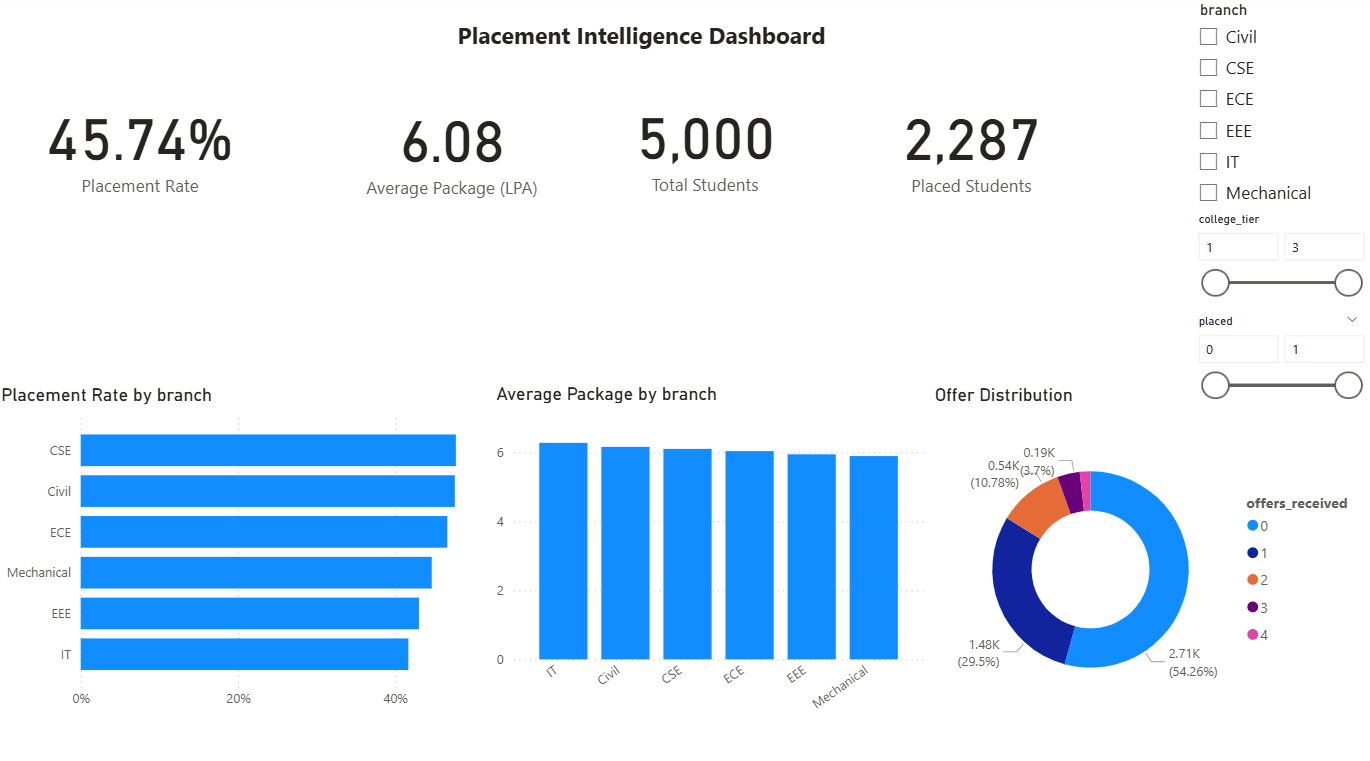

What the dashboard file says about the page in this screenshot:
{"tool":"powerbi","page":{"name":"Executive Overview","canvas":[1280,720],"ordinal":0},"visuals":[{"type":"card","fields":{"Values":["applications.Placement Rate"]},"box":[37.2,80.2,194.2,117.4],"z":0},{"type":"card","fields":{"Values":["applications.Total Students"]},"box":[522.1,47.7,275.6,180.2],"z":1000},{"type":"card","fields":{"Values":["applications.Average Package"]},"box":[304.7,81.4,239.5,117.4],"z":2000},{"type":"card","fields":{"Values":["applications.Placed Students"]},"box":[759.3,80.2,296.5,117.4],"z":3000},{"type":"clusteredBarChart","fields":{"Category":["students.branch"],"Y":["applications.Placement Rate"]},"box":[0,361.6,461.6,311.6],"z":4000},{"type":"clusteredColumnChart","fields":{"Category":["students.branch"],"Y":["applications.Average Package"]},"box":[460.5,360.5,408.1,326.7],"z":5000},{"type":"donutChart","title":"Offer Distribution","fields":{"Category":["applications.offers_received"],"Y":["CountNonNull(applications.student_id)"]},"box":[868.6,361.6,410.5,326.7],"z":6000},{"type":"textbox","box":[424.4,17.4,373.3,41.9],"z":7000},{"type":"slicer","fields":{"Values":["students.branch"]},"box":[1107,0,173.3,216.3],"z":8000},{"type":"slicer","fields":{"Values":["placements.placed"]},"box":[1105.8,291.9,173.3,94.2],"z":9000},{"type":"slicer","fields":{"Values":["students.college_tier"]},"box":[1105.8,196.5,173.3,95.3],"z":10000}]}

Visuals, with their boxes in screenshot pixels (x1, y1, x2, y2), scaled from the page's 1280x720 canvas onto the 1370x761 screenshot:
card - applications.Placement Rate: {"left": 40, "top": 85, "right": 248, "bottom": 209}
card - applications.Total Students: {"left": 559, "top": 50, "right": 854, "bottom": 241}
card - applications.Average Package: {"left": 326, "top": 86, "right": 582, "bottom": 210}
card - applications.Placed Students: {"left": 813, "top": 85, "right": 1130, "bottom": 209}
clusteredBarChart - students.branch x applications.Placement Rate: {"left": 0, "top": 382, "right": 494, "bottom": 712}
clusteredColumnChart - students.branch x applications.Average Package: {"left": 493, "top": 381, "right": 930, "bottom": 726}
"Offer Distribution" donutChart: {"left": 930, "top": 382, "right": 1369, "bottom": 727}
textbox: {"left": 454, "top": 18, "right": 854, "bottom": 63}
slicer - students.branch: {"left": 1185, "top": 0, "right": 1369, "bottom": 229}
slicer - placements.placed: {"left": 1184, "top": 309, "right": 1369, "bottom": 408}
slicer - students.college_tier: {"left": 1184, "top": 208, "right": 1369, "bottom": 308}
